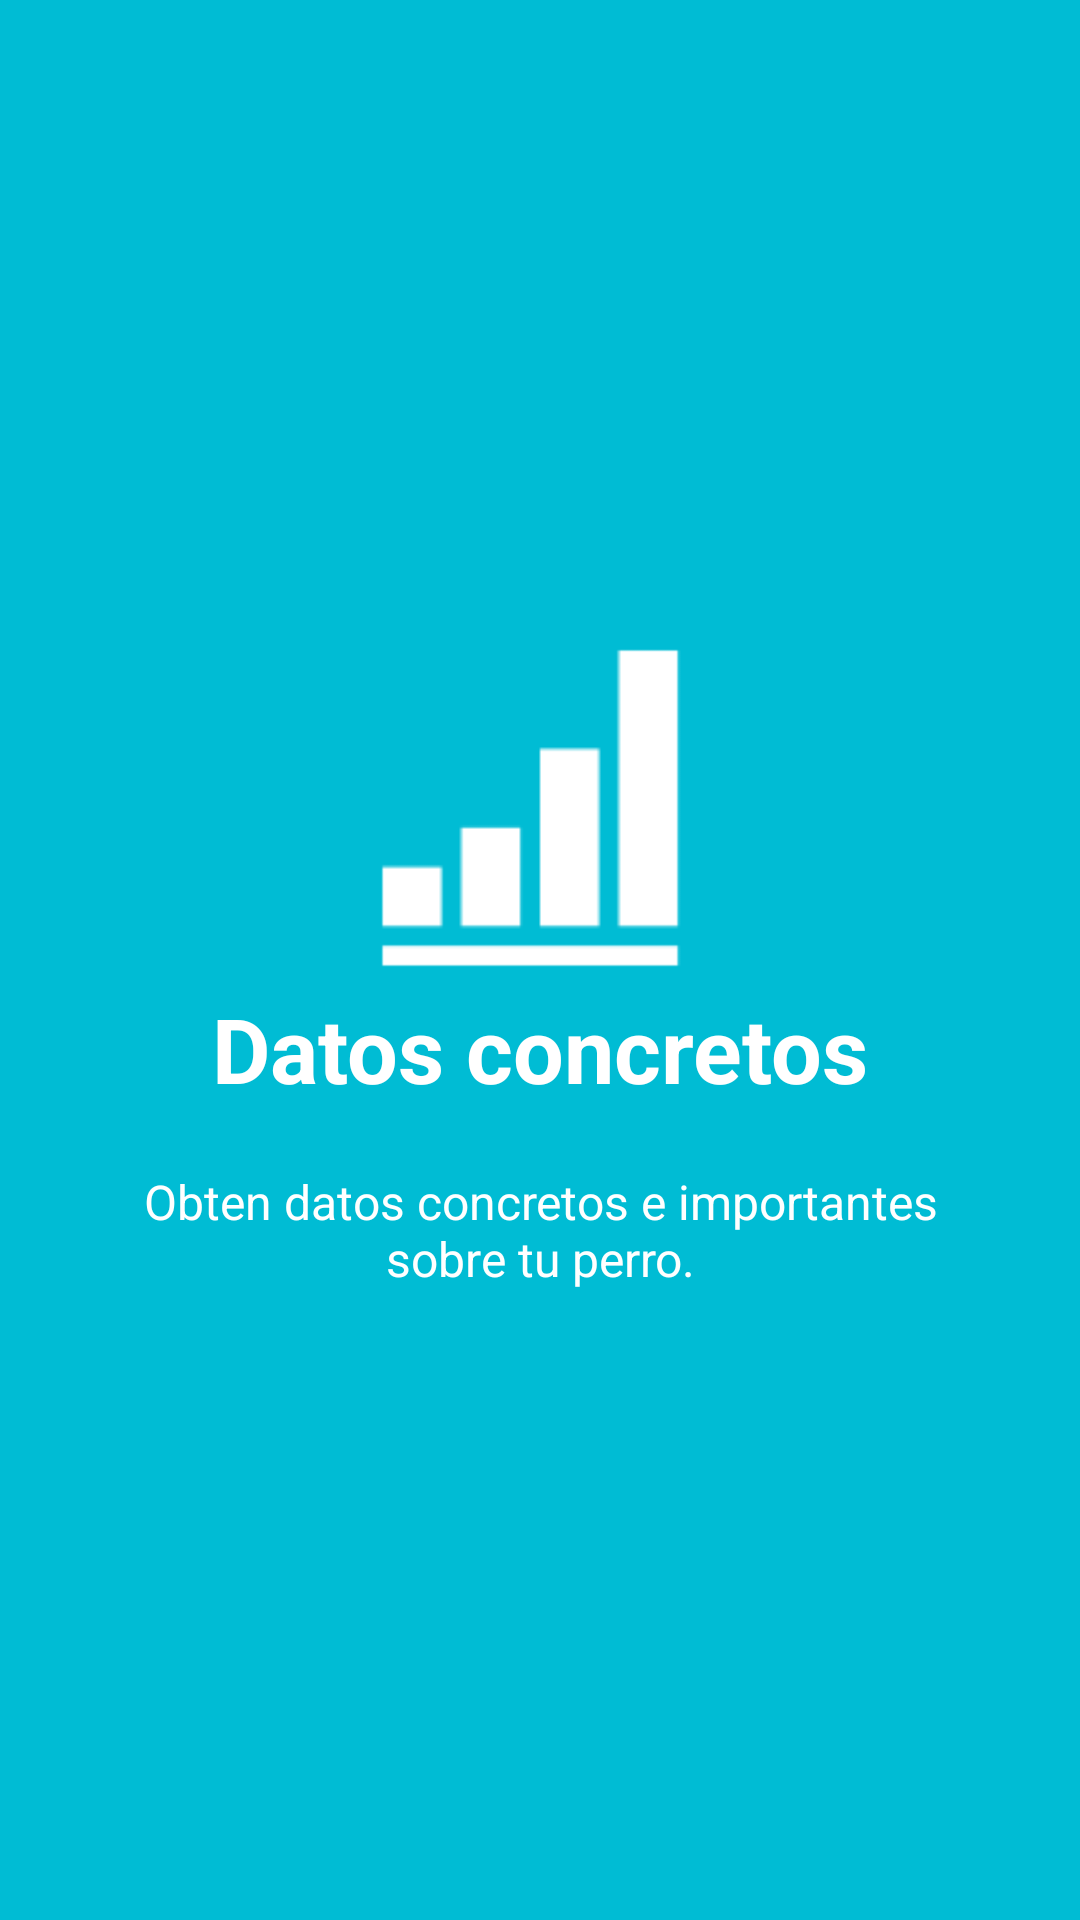

Icons on this 1080px x 1920px Android screen, each with its box as (x1,y1,x2,y2):
stats: (381,649,679,967)
